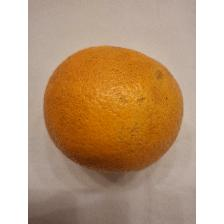Orange: (40, 45, 186, 175)
